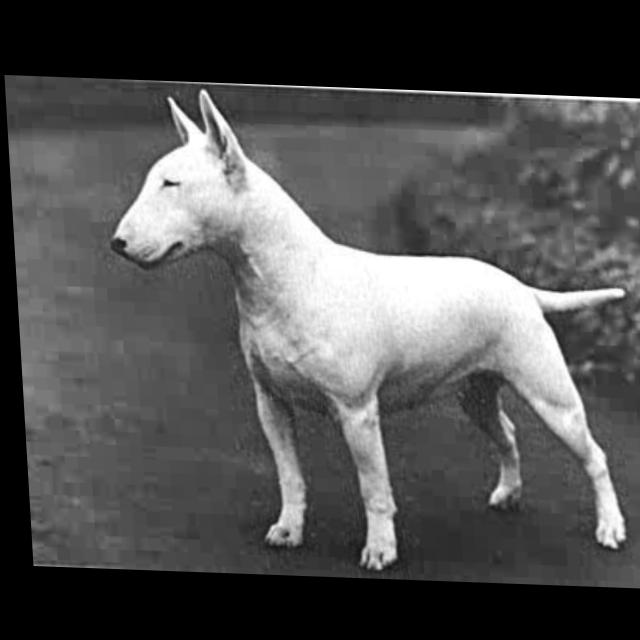bullterrier: (102, 83, 638, 577)
